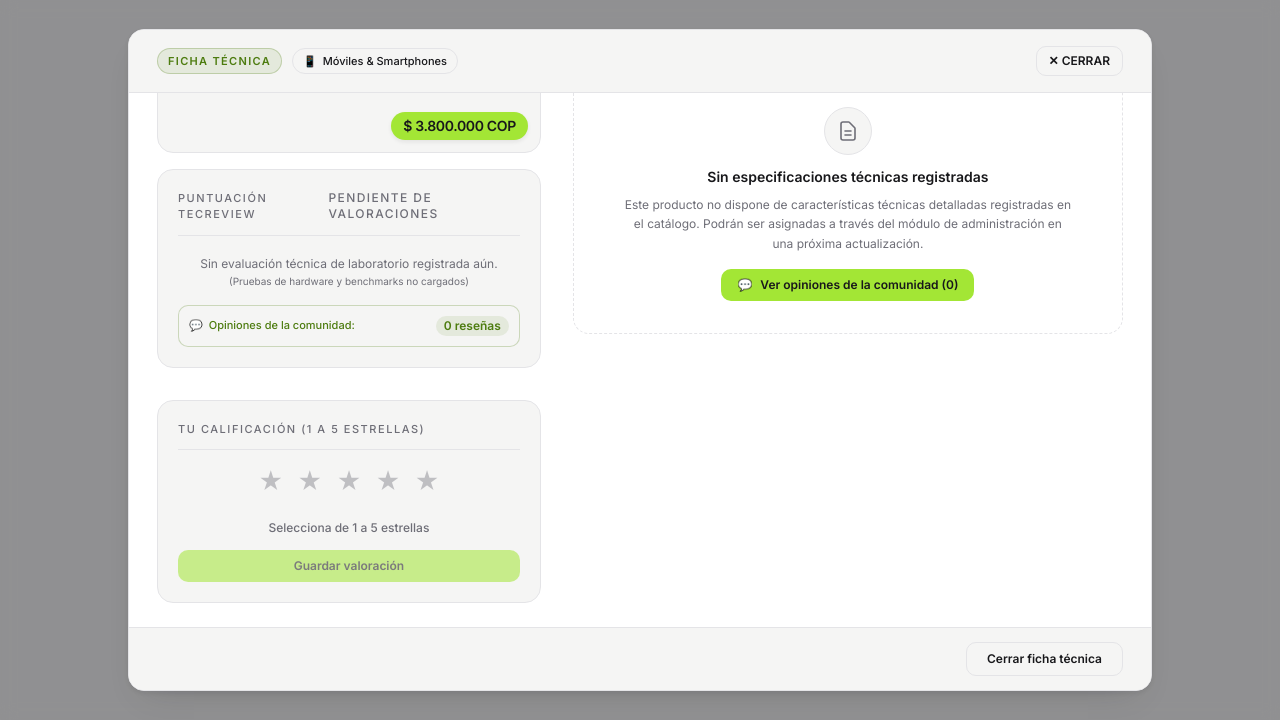
Scenario: Componente FichaTecnicaModal — Fase 4.6: Sistema Real de Valoraciones › permite seleccionar una puntuación de 1 a 5 estrellas y actualiza el texto de selección
(page scrolled)
Click the button named "Calificar con 4 estrellas".
click(388, 482)  # box top-left (372, 462), bottom-right (405, 502)
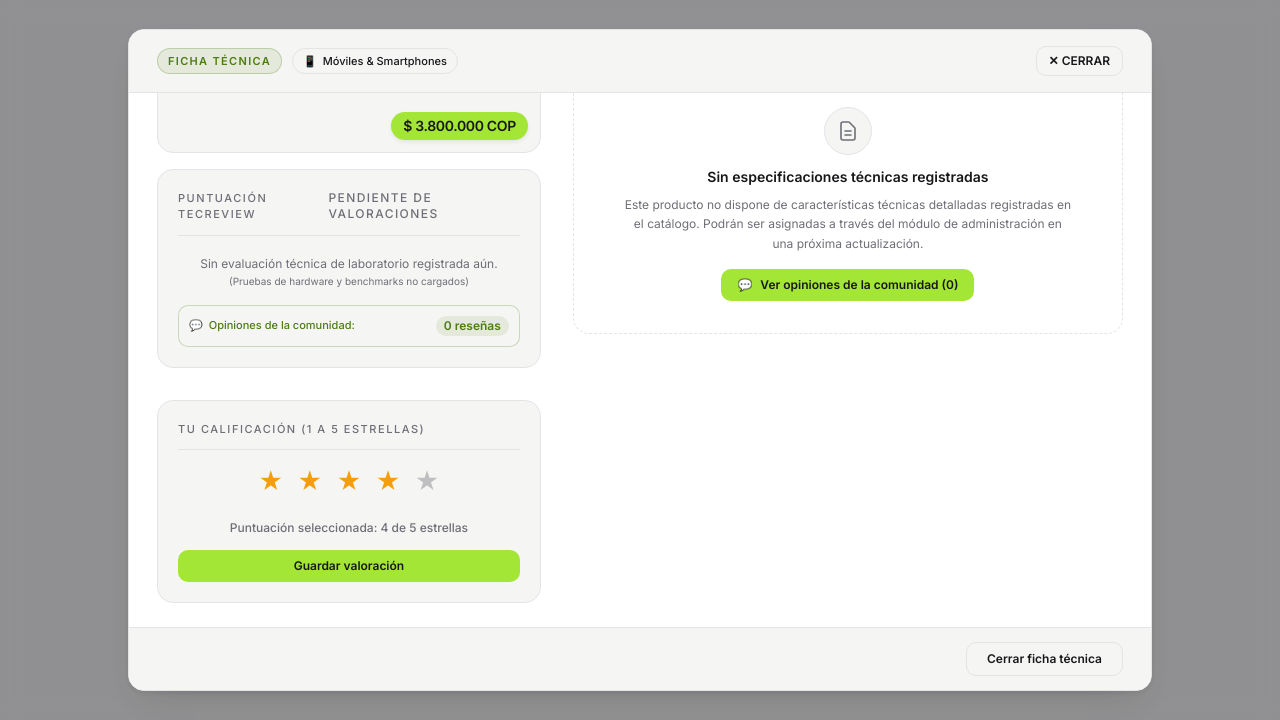
Check: the text "Puntuación seleccionada: 4 de 5 estrellas" is shown, box top-left (230, 520), bottom-right (468, 535)
Check: the button "Guardar valoración" is enabled, box top-left (178, 550), bottom-right (520, 582)
